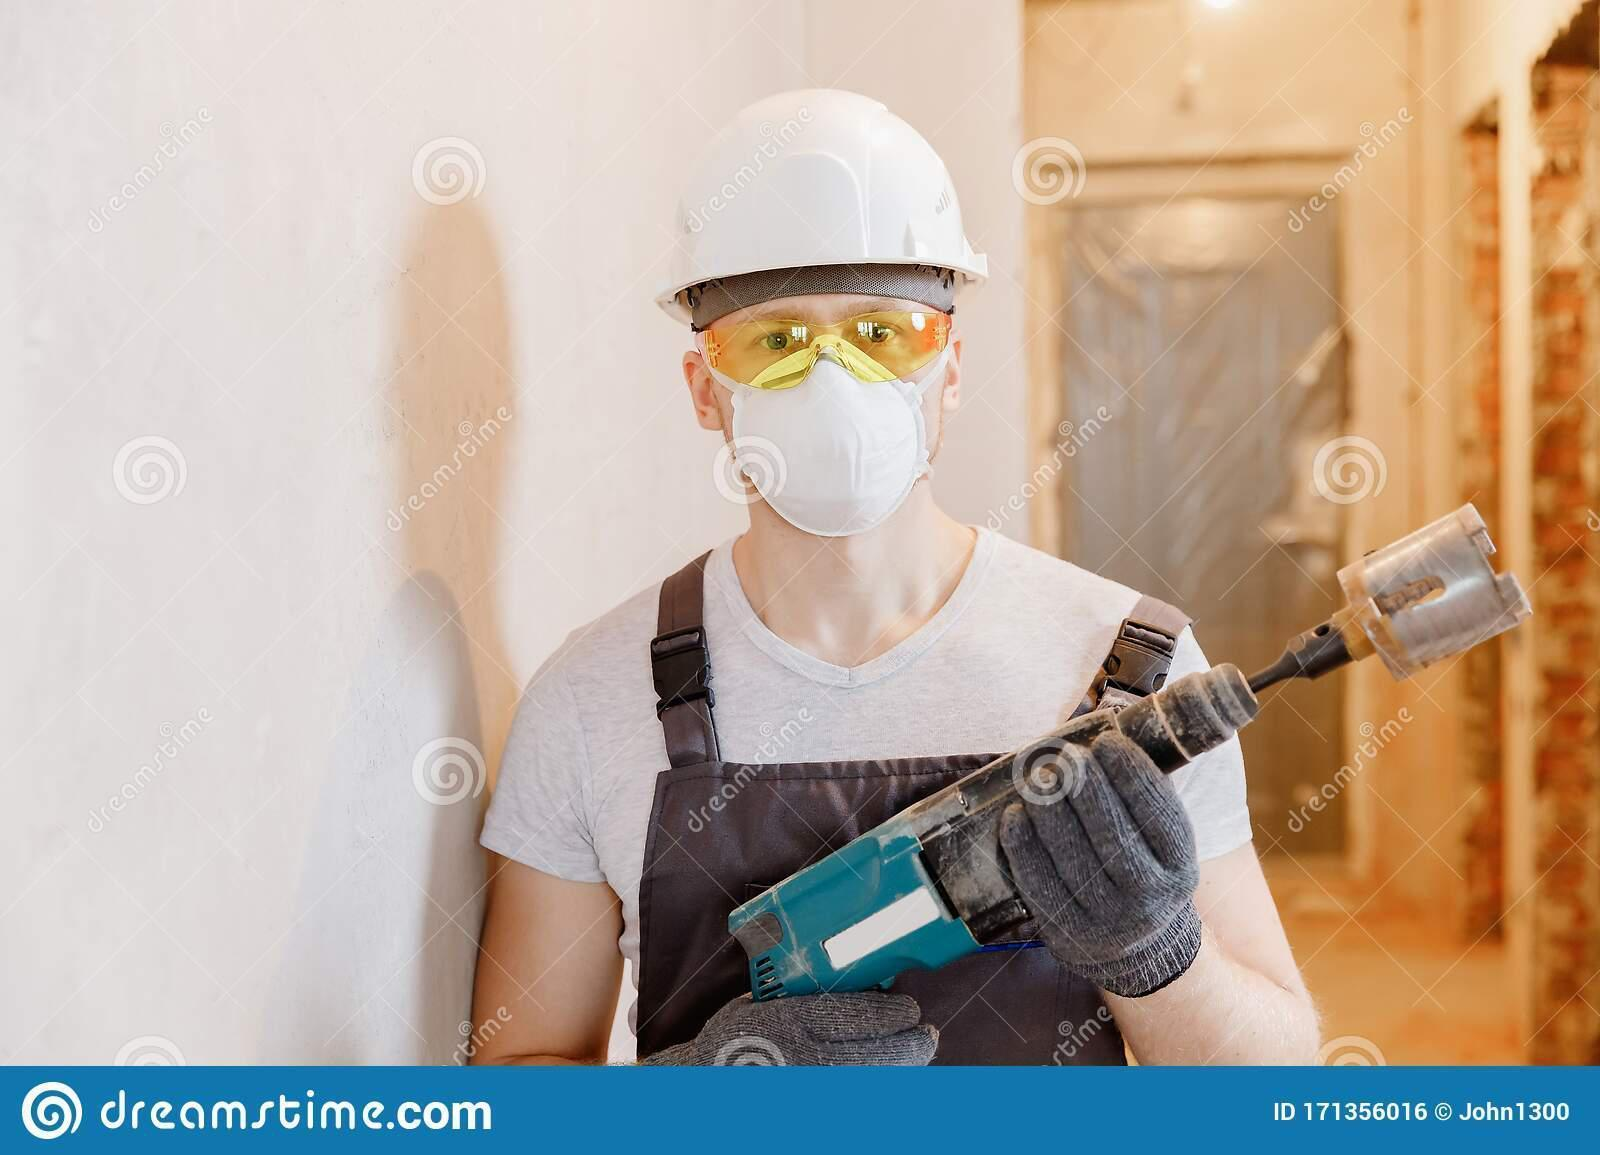helmet: (655, 84, 989, 320)
